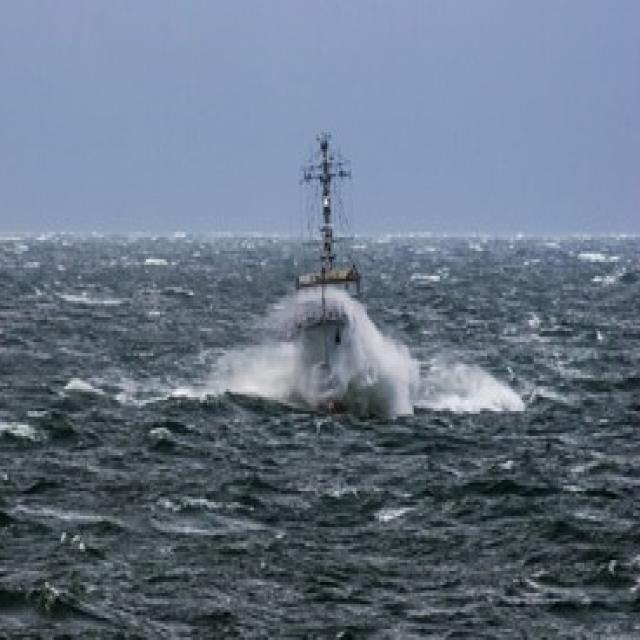fishing boat: (264, 136, 397, 413)
